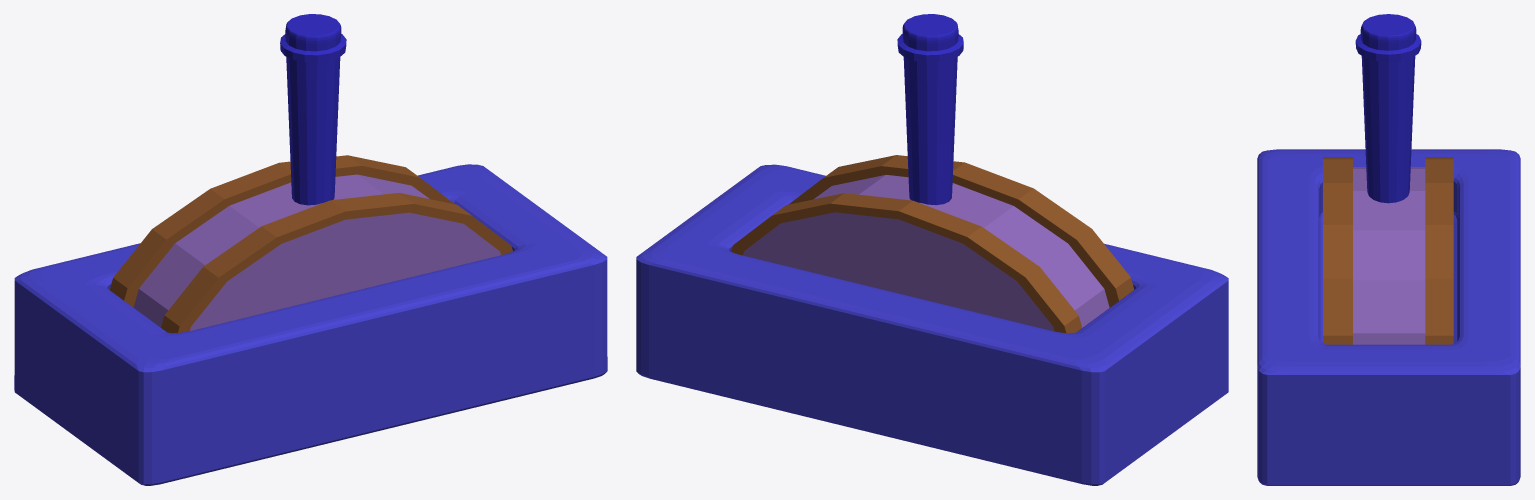
The model's file is Lever.fbx.
The picture shows the model from 3 angles, left to right: view 1: azimuth 30°, elevation 25°; view 2: azimuth 150°, elevation 25°; view 3: azimuth 270°, elevation 25°; orthographic projection.
Parts seen in each view (by area): view 1: Cube, Cube.002; view 2: Cube, Cube.002; view 3: Cube, Cube.002.
Part boxes in pixels (x1,y1,x2,y2): Cube: (14, 155, 607, 485); Cube.002: (280, 14, 346, 205); Cube: (636, 155, 1228, 485); Cube.002: (897, 14, 963, 205); Cube: (1257, 149, 1520, 485); Cube.002: (1355, 14, 1421, 203).
Size of the model in its own units: 69.41 by 50.91 by 34.43.
